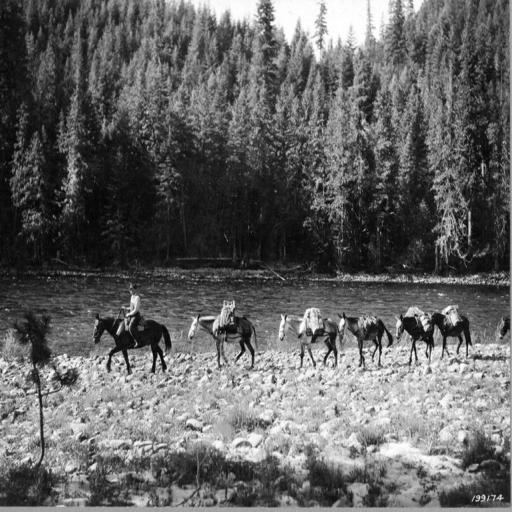horse: (92, 314, 172, 378), (188, 312, 259, 370), (278, 312, 342, 373), (338, 310, 393, 370), (427, 310, 473, 362), (395, 312, 436, 369)
